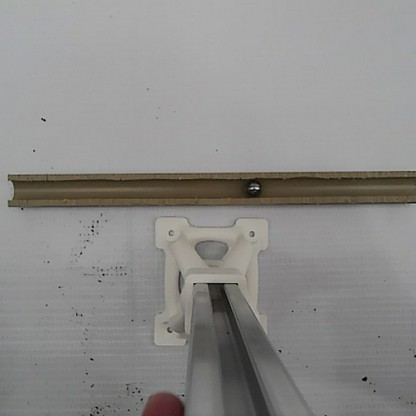ironball: (243, 177, 263, 198)
